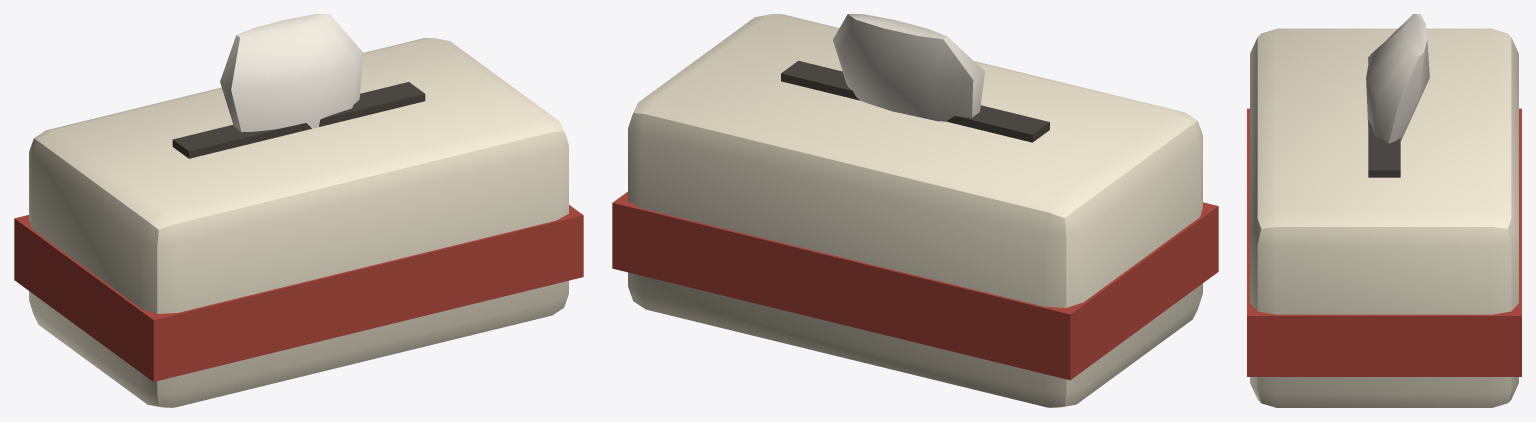
Rendered from napkin_box.glb.
3 renders of one model, left to right at view 1: azimuth 30°, elevation 25°; view 2: azimuth 150°, elevation 25°; view 3: azimuth 270°, elevation 25°, orthographic. The views are drawn at different scales.
Parts seen in each view (by area): view 1: napkin_box; view 2: napkin_box; view 3: napkin_box.
Boxes of the visible parts, x1,y1,x2,y2 form: napkin_box: (14,14,583,407); napkin_box: (612,14,1218,407); napkin_box: (1247,14,1521,407).
Bounding box in the file's own units: 0.182 × 0.115 × 0.102.
